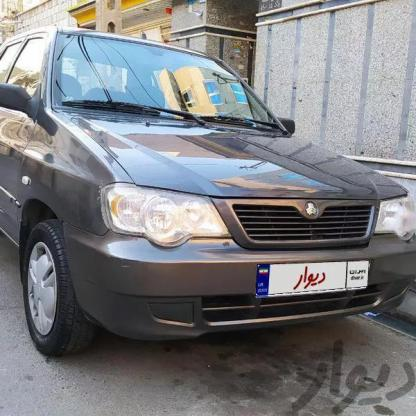Car: (0, 21, 416, 380)
